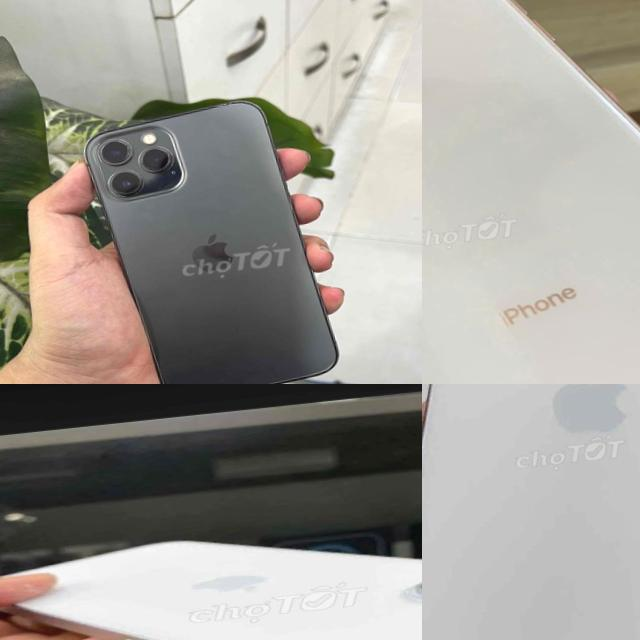gen_12_13: (78, 90, 346, 384)
gen_15: (0, 485, 422, 640), (422, 384, 640, 640)
gen_7_8: (422, 0, 640, 384)
